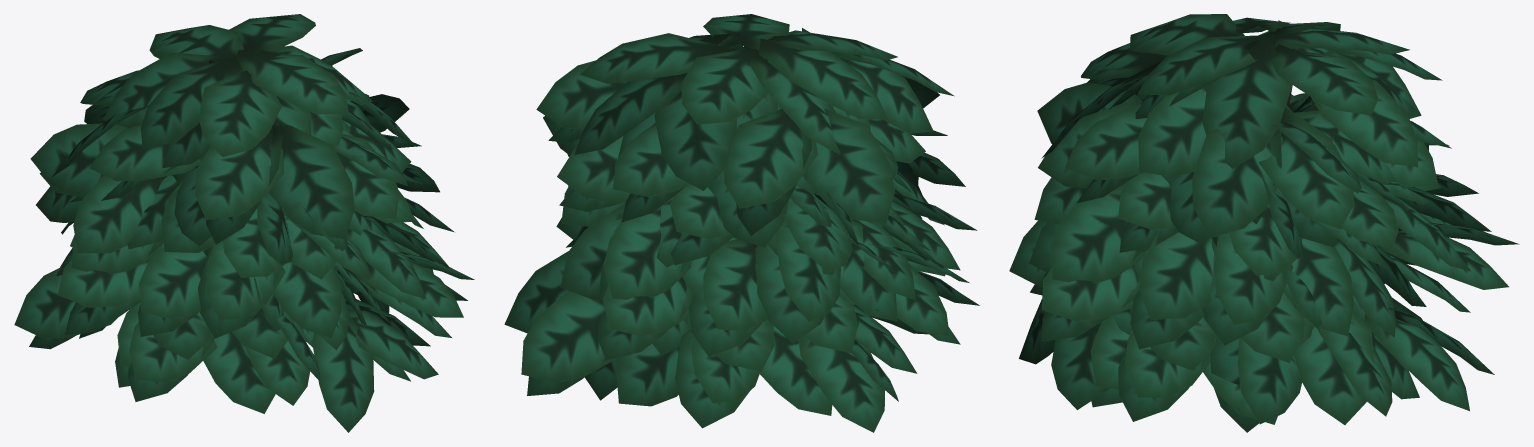
The model's file is planta9.fbx.
3 renders of one model, left to right at view 1: azimuth 30°, elevation 25°; view 2: azimuth 150°, elevation 25°; view 3: azimuth 270°, elevation 25°, orthographic. The views are drawn at different scales.
Parts seen in each view (by area): view 1: pPlane99, pPlane50, pPlane48, pPlane106, pPlane145, pPlane82, pPlane116, pPlane38, pPlane97, pPlane55, pPlane46, pPlane47 (+53 smaller); view 2: pPlane114, pPlane63, pPlane58, pPlane65, pPlane116, pPlane59, pPlane115, pPlane53, pPlane7, pPlane64, pPlane28, pPlane61 (+50 smaller); view 3: pPlane133, pPlane81, pPlane77, pPlane71, pPlane83, pPlane64, pPlane36, pPlane82, pPlane34, pPlane28, pPlane80, pPlane22 (+55 smaller).
Part boxes in pixels (bbox=[...]): pPlane99: bbox=[269, 125, 354, 239]; pPlane50: bbox=[198, 70, 281, 156]; pPlane48: bbox=[194, 125, 284, 219]; pPlane106: bbox=[73, 175, 167, 253]; pPlane145: bbox=[312, 316, 374, 432]; pPlane82: bbox=[236, 49, 348, 114]; pPlane116: bbox=[141, 56, 243, 149]; pPlane38: bbox=[139, 247, 206, 319]; pPlane97: bbox=[273, 262, 341, 338]; pPlane55: bbox=[30, 123, 127, 197]; pPlane46: bbox=[205, 241, 285, 320]; pPlane47: bbox=[89, 126, 201, 181]; pPlane114: bbox=[802, 108, 894, 223]; pPlane63: bbox=[724, 109, 817, 208]; pPlane58: bbox=[521, 290, 618, 382]; pPlane65: bbox=[681, 48, 767, 124]; pPlane116: bbox=[759, 38, 887, 119]; pPlane59: bbox=[603, 206, 691, 299]; pPlane115: bbox=[654, 90, 737, 190]; pPlane53: bbox=[703, 239, 767, 331]; pPlane7: bbox=[798, 336, 884, 432]; pPlane64: bbox=[580, 33, 728, 83]; pPlane28: bbox=[574, 73, 687, 154]; pPlane61: bbox=[775, 221, 840, 321]; pPlane133: bbox=[1202, 41, 1292, 168]; pPlane81: bbox=[1192, 129, 1283, 237]; pPlane77: bbox=[1050, 185, 1146, 283]; pPlane71: bbox=[1138, 229, 1214, 320]; pPlane83: bbox=[1138, 85, 1206, 177]; pPlane64: bbox=[1271, 44, 1378, 115]; pPlane36: bbox=[1259, 138, 1353, 228]; pPlane82: bbox=[1137, 35, 1276, 95]; pPlane34: bbox=[1294, 311, 1374, 424]; pPlane28: bbox=[1311, 79, 1418, 167]; pPlane80: bbox=[1065, 104, 1146, 180]; pPlane22: bbox=[1364, 314, 1469, 410].
Bounding box in the file's own units: 3.43 × 2.67 × 3.61.
